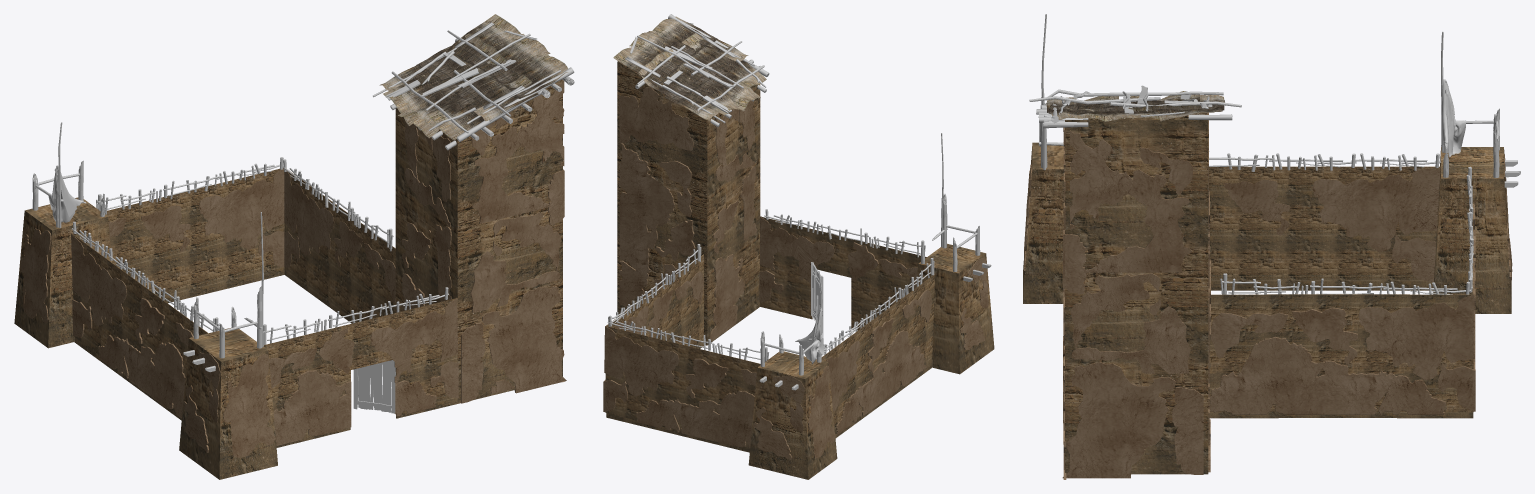
The model's file is ManChengJianZhu09.FBX.
3 renders of one model, left to right at view 1: azimuth 30°, elevation 25°; view 2: azimuth 150°, elevation 25°; view 3: azimuth 270°, elevation 25°, orthographic. The views are drawn at different scales.
Parts seen in each view (by area): view 1: qiang, jianzhu01, wuding02, mutou, wuding01, wujian02; view 2: qiang, jianzhu01, wuding02, mutou, wuding01, wujian02; view 3: qiang, jianzhu01, mutou, wuding01, wuding02, wujian02.
Part boxes in pixels (bbox=[...]): qiang: bbox=[14, 79, 562, 479]; jianzhu01: bbox=[20, 75, 566, 457]; wuding02: bbox=[379, 14, 568, 140]; mutou: bbox=[32, 122, 448, 413]; wuding01: bbox=[373, 22, 574, 150]; wujian02: bbox=[48, 165, 82, 222]; qiang: bbox=[605, 61, 994, 479]; jianzhu01: bbox=[603, 72, 988, 459]; wuding02: bbox=[613, 16, 766, 120]; mutou: bbox=[607, 133, 991, 390]; wuding01: bbox=[625, 14, 769, 127]; wujian02: bbox=[798, 308, 824, 364]; qiang: bbox=[1023, 112, 1511, 474]; jianzhu01: bbox=[1024, 112, 1512, 479]; mutou: bbox=[1038, 14, 1520, 294]; wuding01: bbox=[1029, 85, 1241, 128]; wuding02: bbox=[1046, 91, 1224, 121]; wujian02: bbox=[1441, 79, 1466, 156].
Size of the model in its own units: 793 by 647 by 787.
